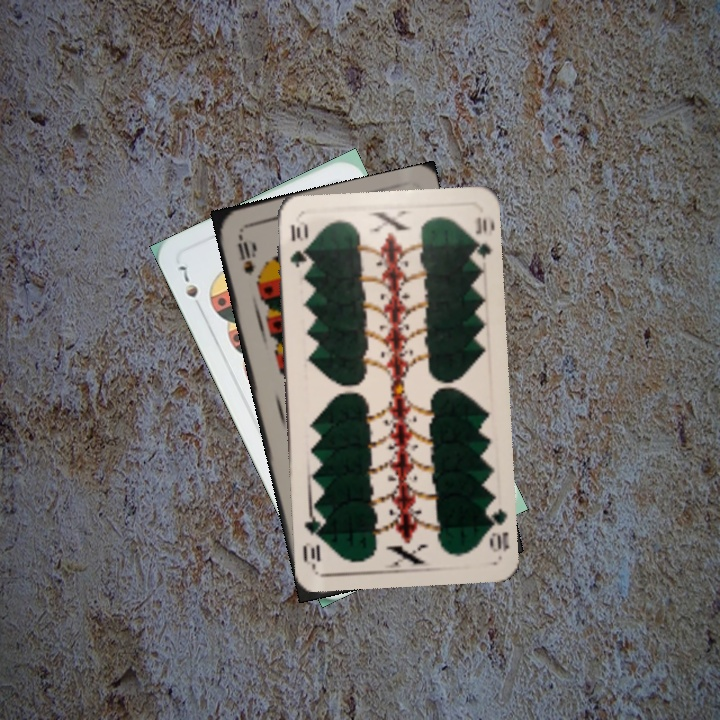G10: (482, 499, 511, 555), (286, 220, 310, 270)
S10: (233, 230, 258, 278)
S7: (175, 261, 206, 315)
